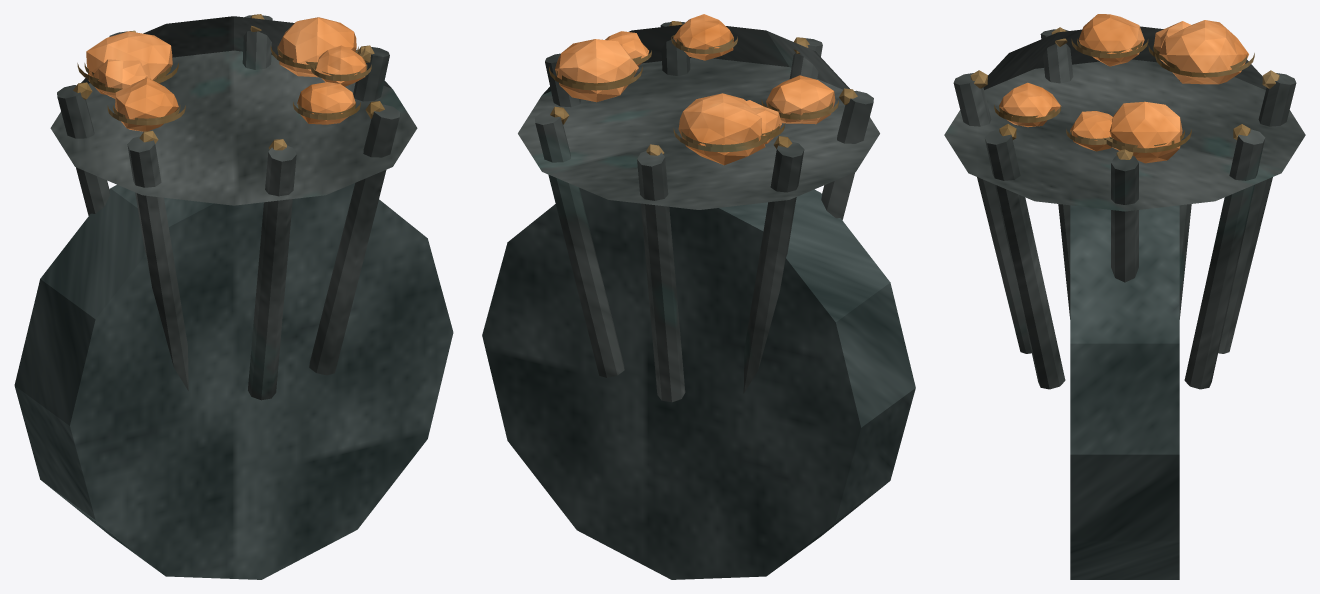
File: 0550_brazier_25.glb
The picture shows the model from 3 angles, left to right: view 1: azimuth 30°, elevation 25°; view 2: azimuth 150°, elevation 25°; view 3: azimuth 270°, elevation 25°; orthographic projection.
Parts seen in each view (by area): view 1: stone_dark, iron, amber, brass; view 2: stone_dark, iron, amber, brass; view 3: iron, stone_dark, amber, brass.
Part boxes in pixels (bbox=[...]): stone_dark: bbox=[14, 183, 453, 579]; iron: bbox=[50, 15, 417, 400]; amber: bbox=[86, 17, 366, 131]; brass: bbox=[73, 14, 384, 150]; stone_dark: bbox=[482, 188, 915, 579]; iron: bbox=[518, 22, 879, 402]; amber: bbox=[555, 14, 835, 165]; brass: bbox=[549, 21, 857, 155]; iron: bbox=[944, 26, 1305, 389]; stone_dark: bbox=[1070, 205, 1179, 579]; amber: bbox=[999, 14, 1248, 163]; brass: bbox=[970, 27, 1279, 159].
Size of the model in its own units: 1.4 by 1.78 by 1.16.
4 materials, 4 textured.
